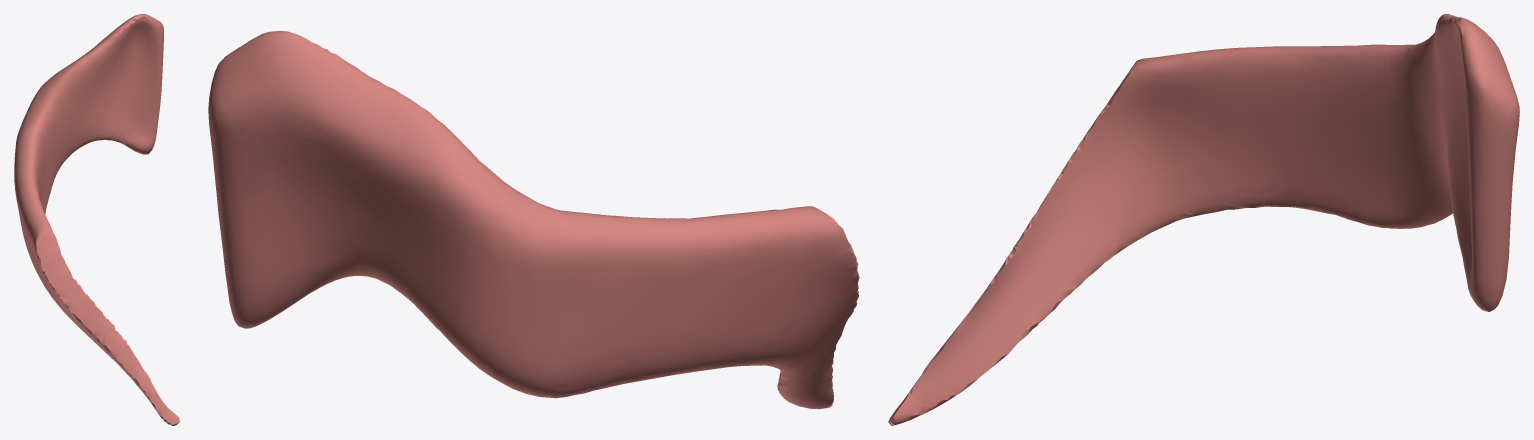
Rendered from fma46652_mm1248m.glb.
3 renders of one model, left to right at view 1: azimuth 30°, elevation 25°; view 2: azimuth 150°, elevation 25°; view 3: azimuth 270°, elevation 25°, orthographic. The views are drawn at different scales.
Parts seen in each view (by area): view 1: FMA46652_MM1248M; view 2: FMA46652_MM1248M; view 3: FMA46652_MM1248M.
Part boxes in pixels (<box>): FMA46652_MM1248M: <box>14,14,179,425</box>; FMA46652_MM1248M: <box>208,30,859,409</box>; FMA46652_MM1248M: <box>888,14,1519,425</box>.
Bounding box in the file's own units: 0.0216 × 0.0251 × 0.0283.
